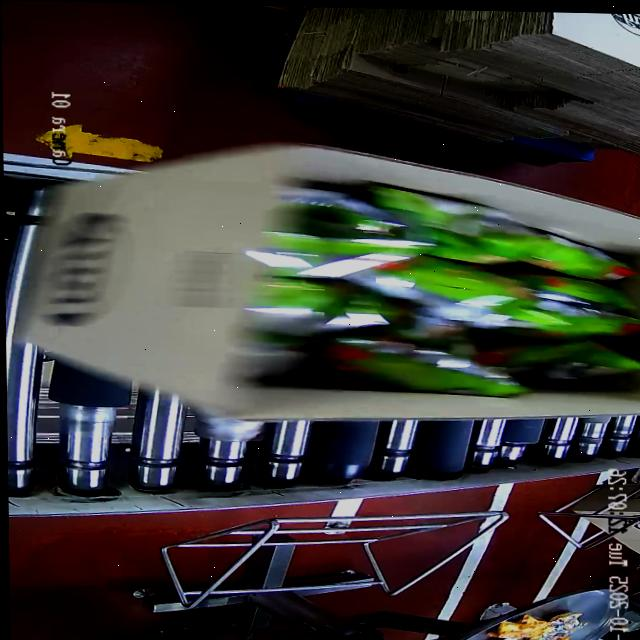YOGURT_HERB: (234, 200, 629, 402)
